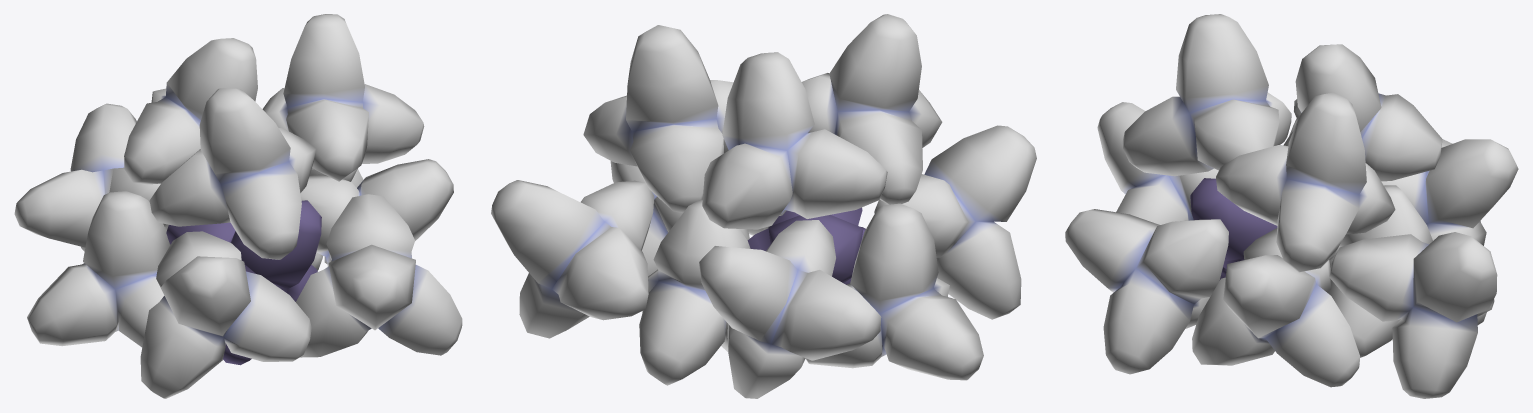
The model's file is beach_deco_tetrapods_02.fbx.
3 views of the same model, side by side, from view 1: azimuth 30°, elevation 25°; view 2: azimuth 150°, elevation 25°; view 3: azimuth 270°, elevation 25° (orthographic). The views are drawn at different scales.
Parts seen in each view (by area): view 1: Plane.065; view 2: Plane.065; view 3: Plane.065.
Boxes of the visible parts, x1,y1,x2,y2 form: Plane.065: (14, 14, 462, 398); Plane.065: (491, 14, 1036, 398); Plane.065: (1065, 14, 1518, 398).
Size of the model in its own units: 1261 by 850 by 1268.
